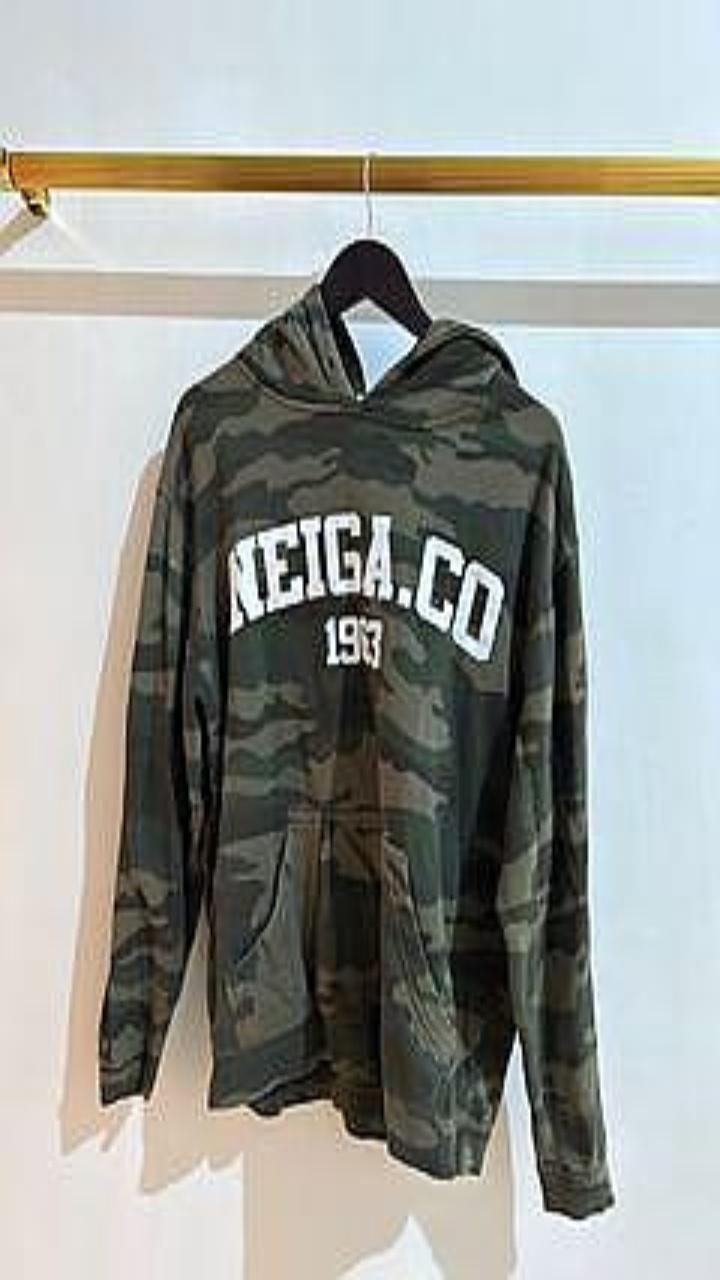Sports_Jacket: (99, 281, 613, 1217)
